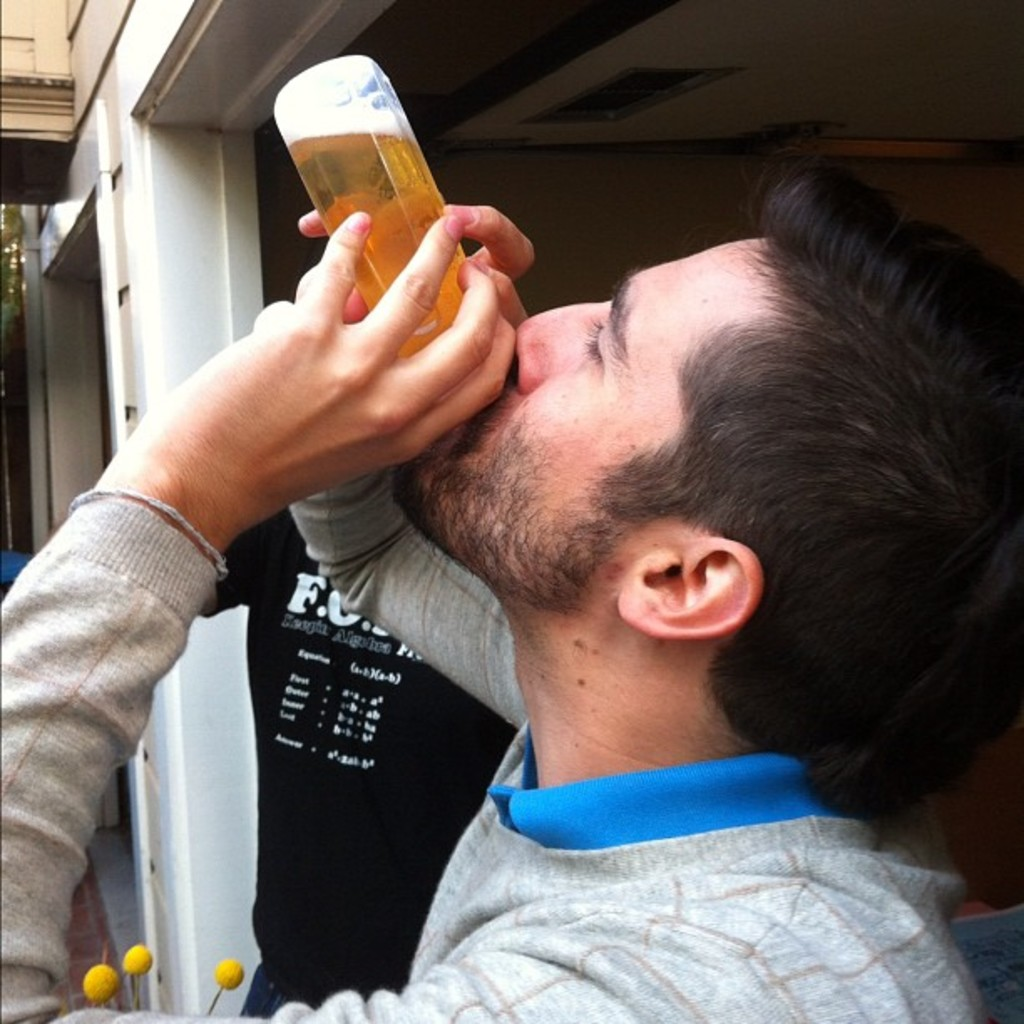Beer: (254, 48, 528, 409)
